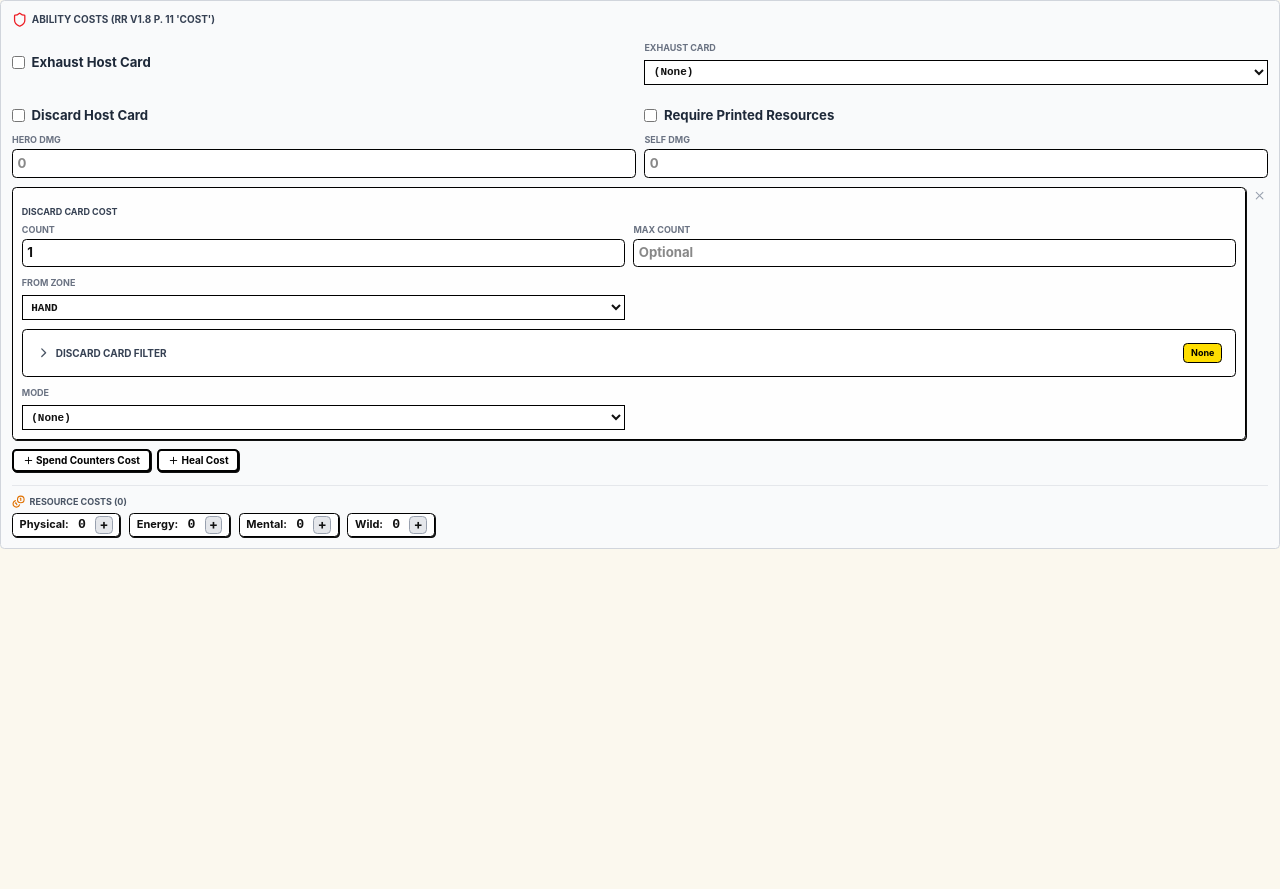
Test: AbilityCostSection › configures discardCard maxCount and expands filter accordion
Note: Set maxCount
Type "2" into the number field with test id "cost-discard-card-max-count-0" at (935, 253), box left=633, top=239, right=1236, bottom=267
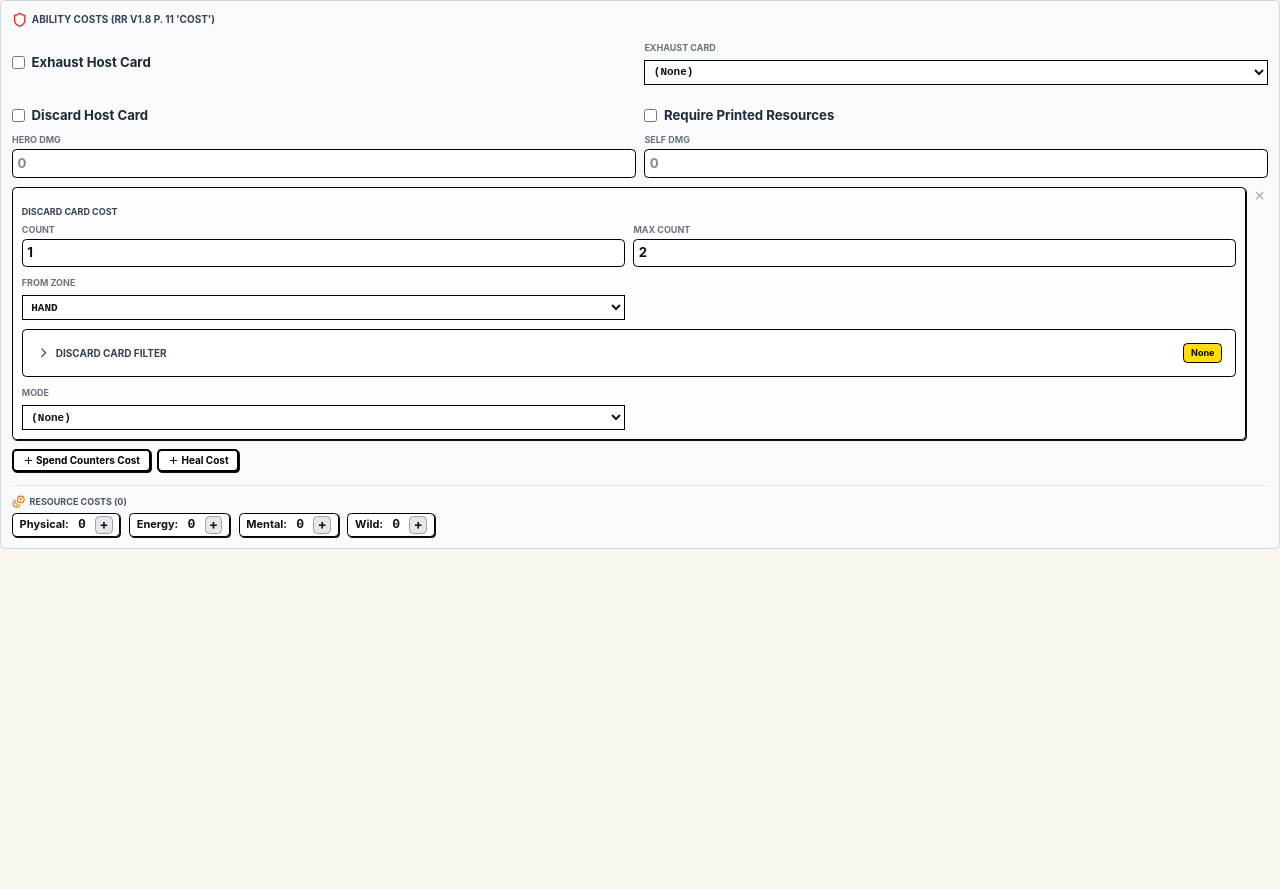
Click the element with test id "cost-discard-card-filter-toggle-0" at (111, 353), box left=32, top=339, right=1226, bottom=368
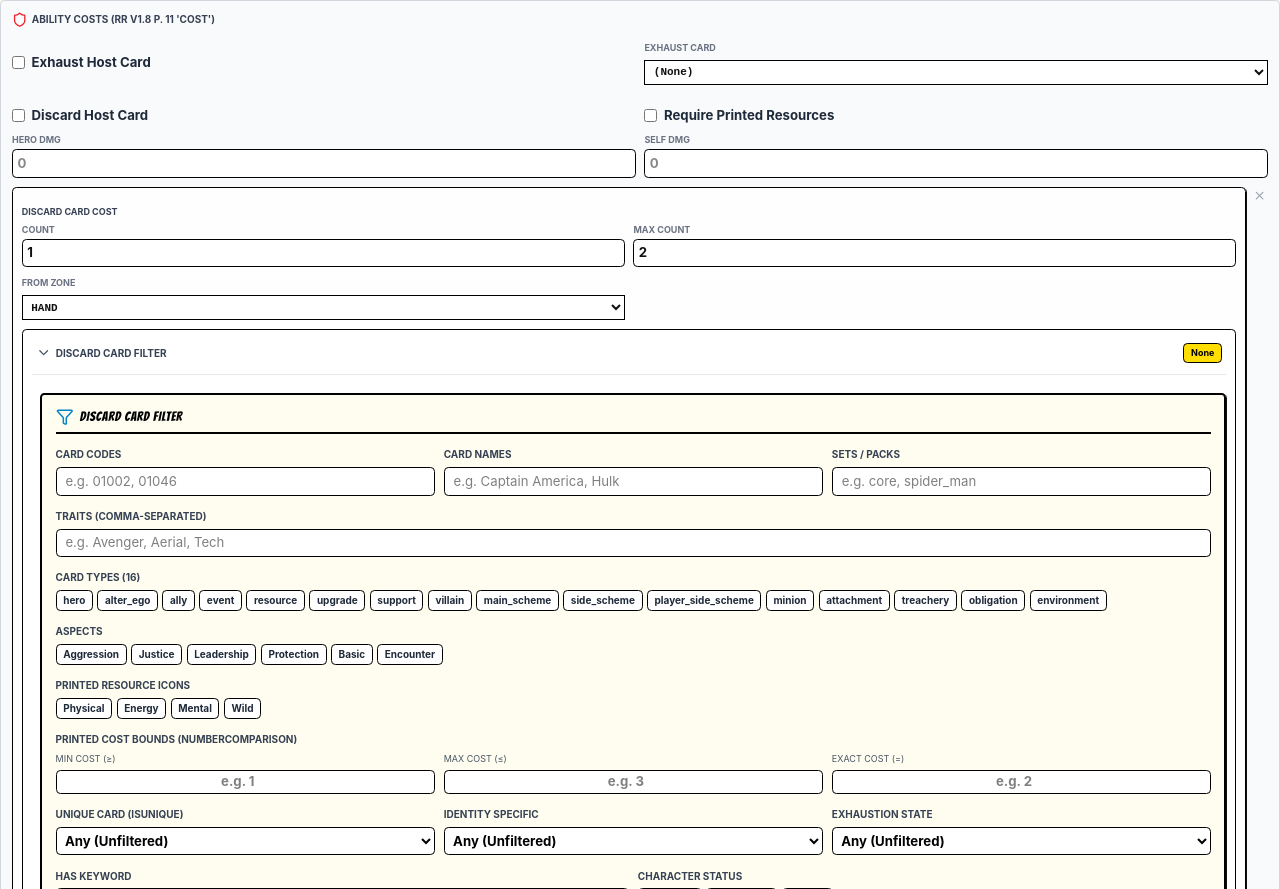
Check: the field with test id "filter-codes-input" is shown, box left=56, top=467, right=435, bottom=496
